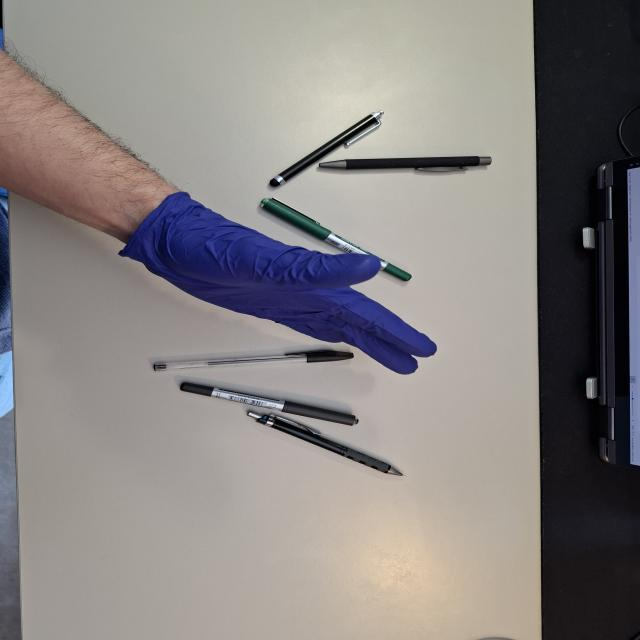glove_on: (111, 190, 442, 378)
